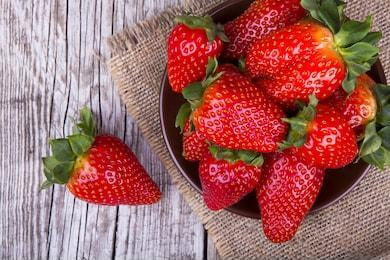Fresa: (187, 58, 292, 159), (243, 13, 352, 109), (63, 129, 170, 219), (251, 131, 328, 246), (289, 97, 364, 177), (193, 139, 265, 217), (164, 17, 226, 95)
